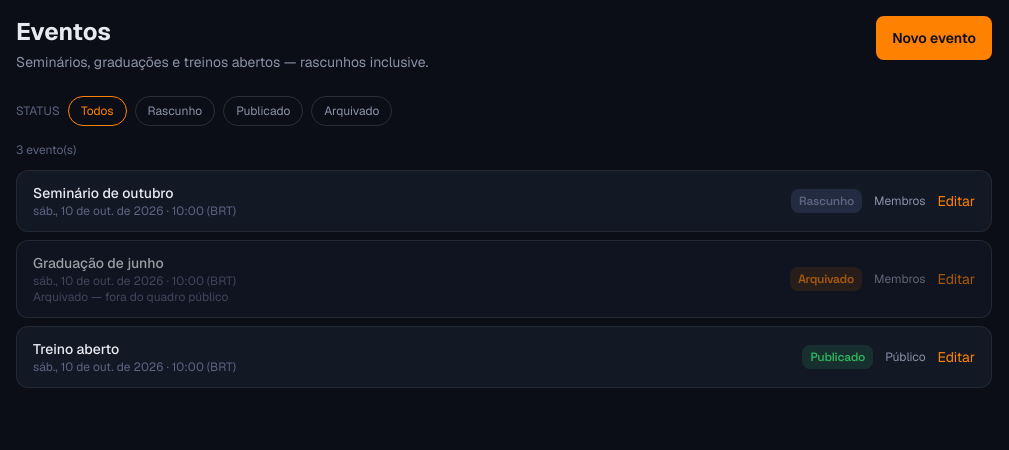
Test case: AdminEventsPage — empty, loading and failure › distinguishes an empty filter from an empty tenant
Expected: the text "Seminário de outubro" is shown, top-left (33, 184), bottom-right (174, 202)
Click the button "Arquivado" at (352, 111), box top-left (311, 96), bottom-right (392, 126)
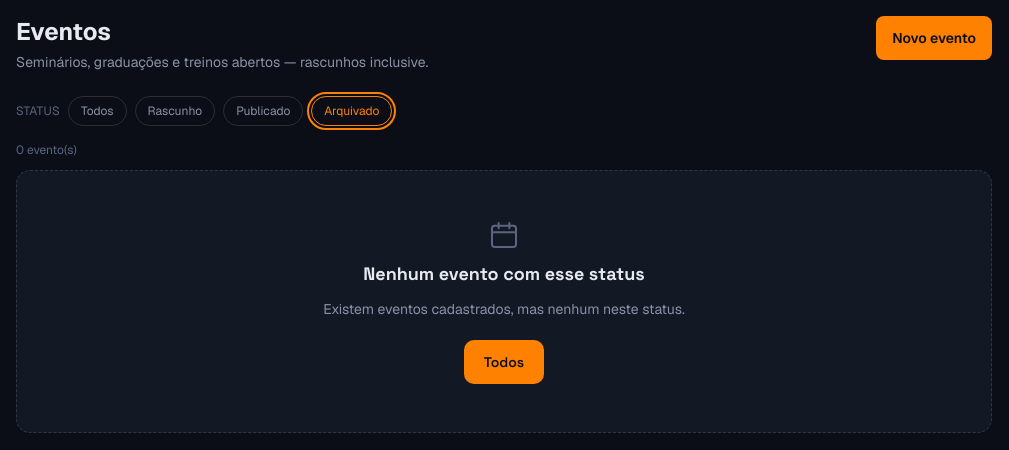
Expected: the heading "Nenhum evento com esse status" is shown, top-left (363, 263), bottom-right (645, 286)
